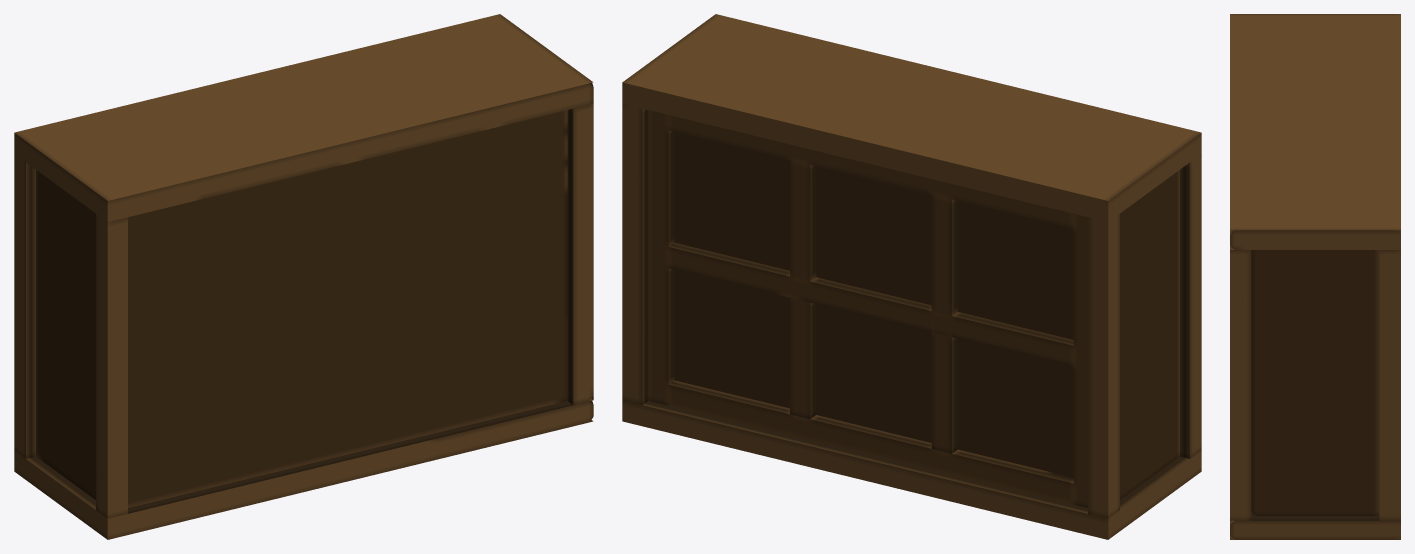
File: herb_cabinet.obj
3 renders of one model, left to right at view 1: azimuth 30°, elevation 25°; view 2: azimuth 150°, elevation 25°; view 3: azimuth 270°, elevation 25°, orthographic. The views are drawn at different scales.
Visible parts, largest first — view 1: cube; view 2: cube; view 3: cube.
Part boxes in pixels (<box>): cube: <box>14,14,593,539</box>; cube: <box>622,14,1201,539</box>; cube: <box>1230,14,1400,539</box>.
Size of the model in its own units: 3 by 2 by 1.
Materials: 1 (1 with a texture image).
